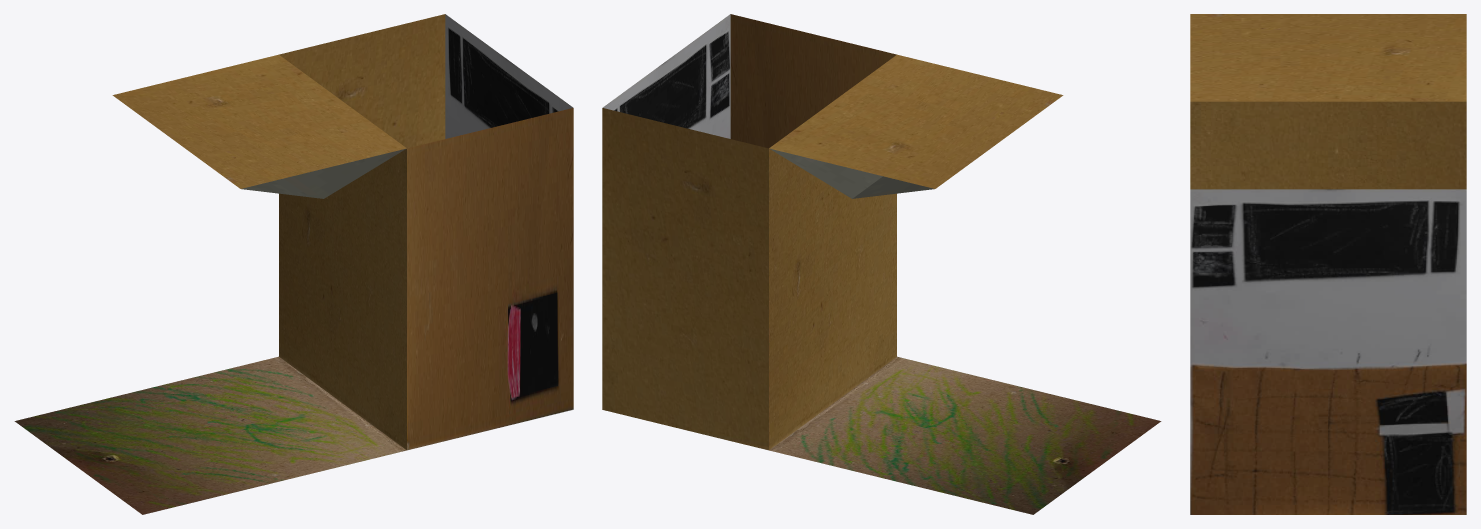
3 views of the same model, side by side, from view 1: azimuth 30°, elevation 25°; view 2: azimuth 150°, elevation 25°; view 3: azimuth 270°, elevation 25° (orthographic). The views are drawn at different scales.
Visible parts, largest first — view 1: Cube, Cube.002, Cube.003; view 2: Cube, Cube.002, Cube.003; view 3: Cube, Cube.003, Cube.002.
Part boxes in pixels (bbox=[...]): Cube: bbox=[14, 108, 573, 514]; Cube.002: bbox=[112, 54, 406, 198]; Cube.003: bbox=[279, 14, 573, 148]; Cube: bbox=[602, 108, 1161, 514]; Cube.002: bbox=[769, 54, 1063, 198]; Cube.003: bbox=[602, 14, 896, 148]; Cube: bbox=[1190, 189, 1466, 514]; Cube.003: bbox=[1190, 101, 1466, 189]; Cube.002: bbox=[1190, 14, 1466, 101].
Bounding box in the file's own units: 19.41 × 13 × 10.
Materials: 1 (1 with a texture image).
